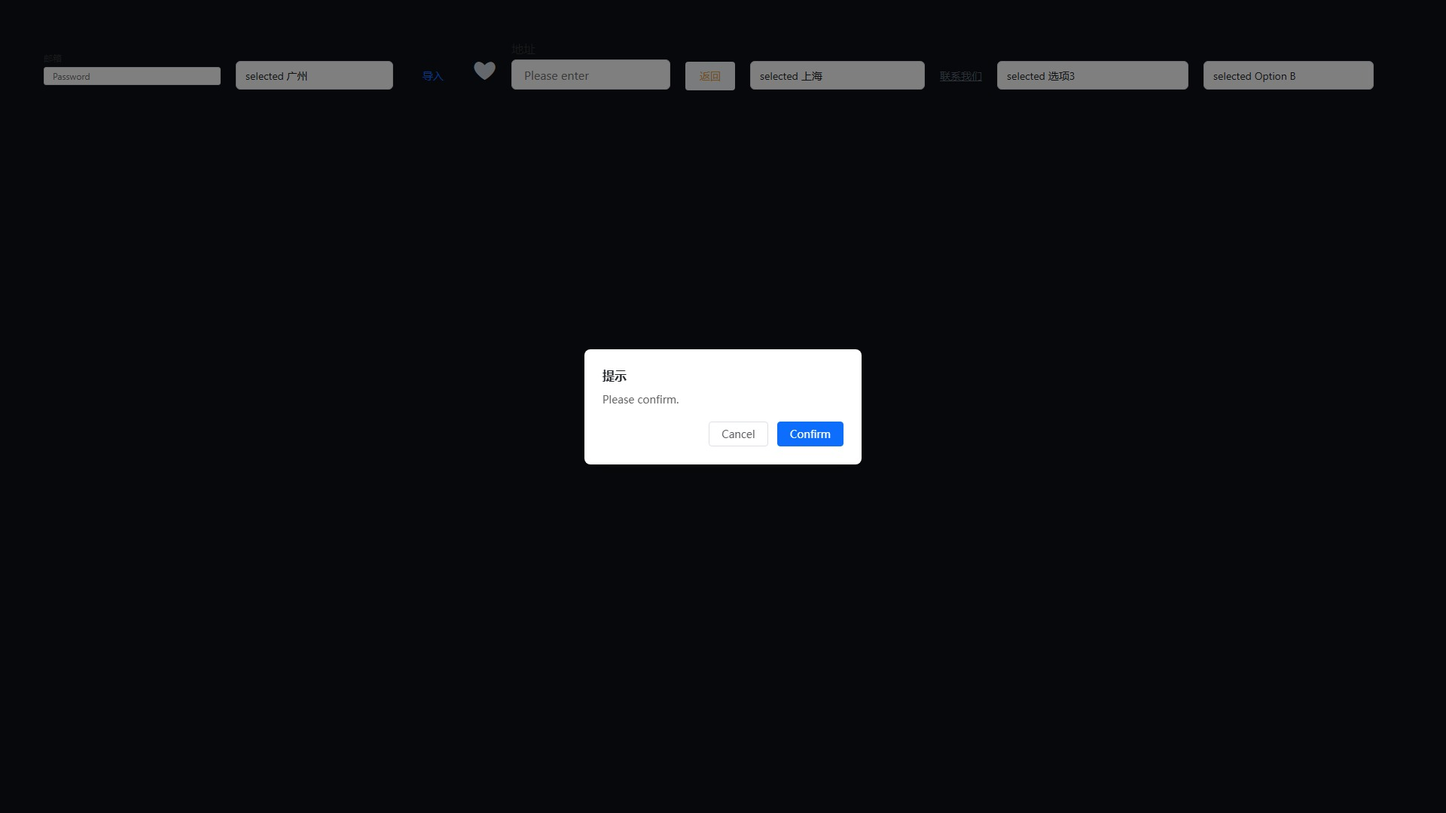button: (777, 421, 844, 446), (709, 421, 768, 446), (408, 61, 458, 90), (685, 61, 735, 90)
icon: (473, 58, 496, 82)
input: (511, 59, 670, 90), (44, 67, 221, 85)
link: (940, 68, 982, 82)
modal: (0, 0, 1446, 813)
select: (997, 61, 1189, 90), (750, 61, 925, 90), (1204, 61, 1374, 90), (236, 61, 393, 90)
